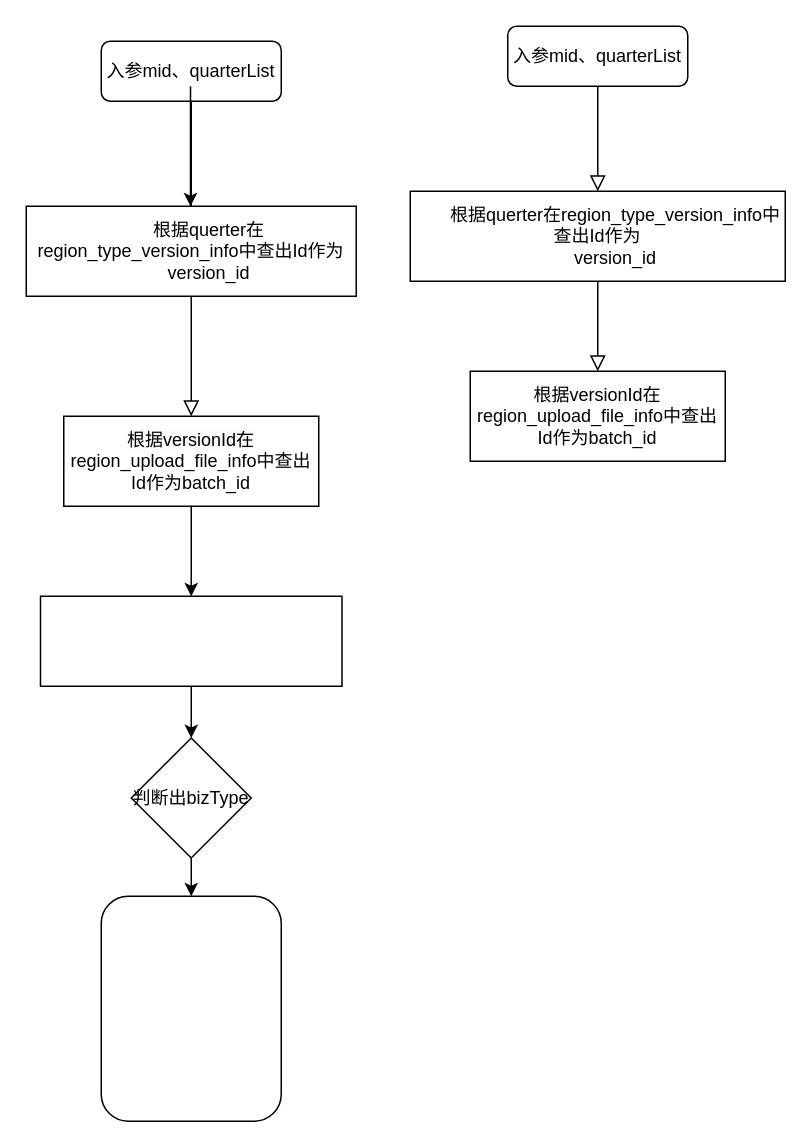
The diagram is 812 pixels wide and 1148 high, and some of its shapes have lost their labels. Each missing label, with the centre of its shape:
根据batch_id在 region_upload_emp_position_info 中查出岗位信息（除了业务类型）: the point at 190,640
返回 quarter、 regionType、 bizType、 positionType、 positionCode、 parentPositionCode: the point at 190,1008
